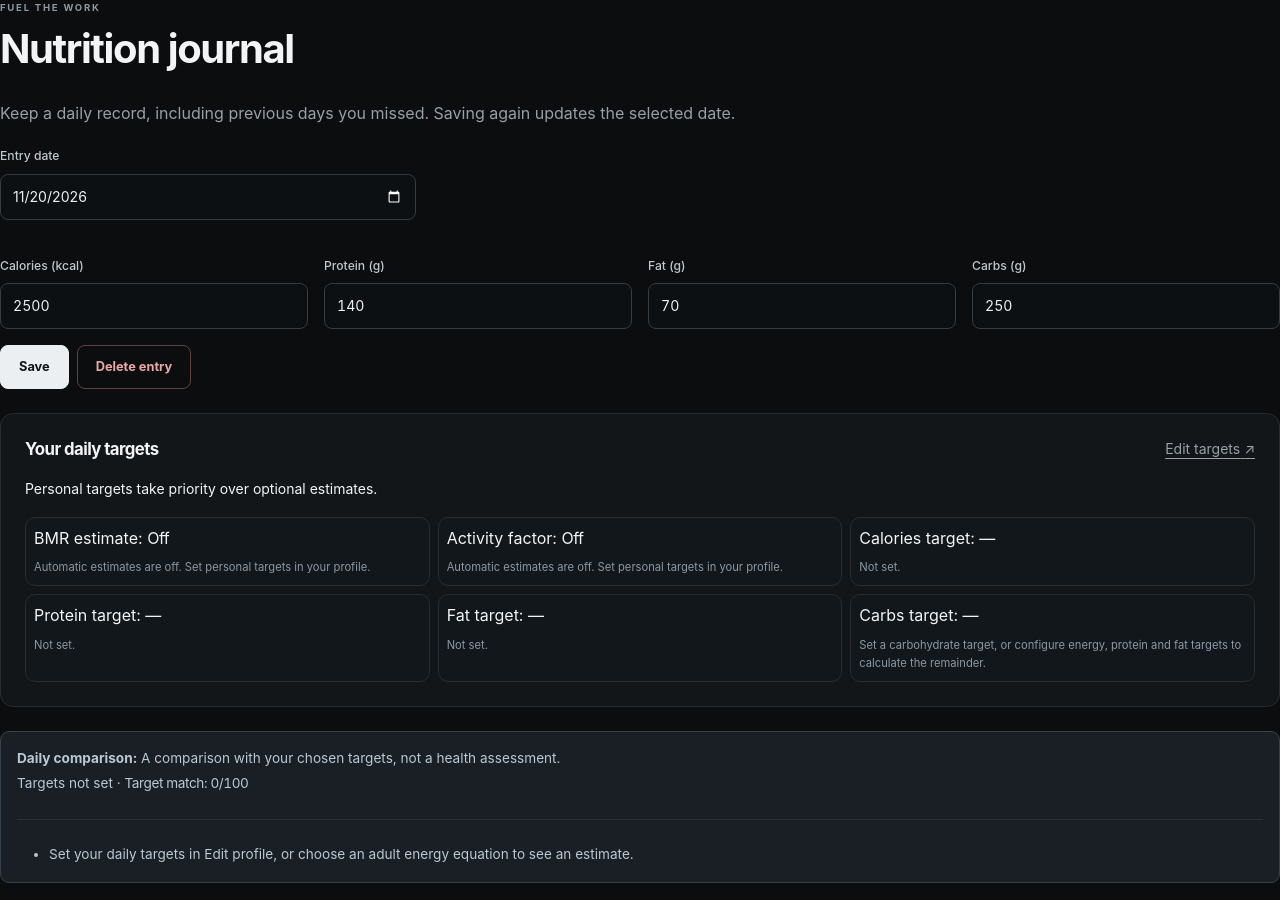
Test: nutrition journal › deletes an entry after confirmation and shows when estimates are off
Expected: the text "Targets not set" is shown, x1=17 y1=776 x2=113 y2=792
Expected: the list item "Set your daily targets in Edit profile, or choose an adult energy equation to see an estimate." is shown, x1=49 y1=846 x2=634 y2=862
Click the button "Delete entry" at (134, 367), box x1=77 y1=345 x2=191 y2=389
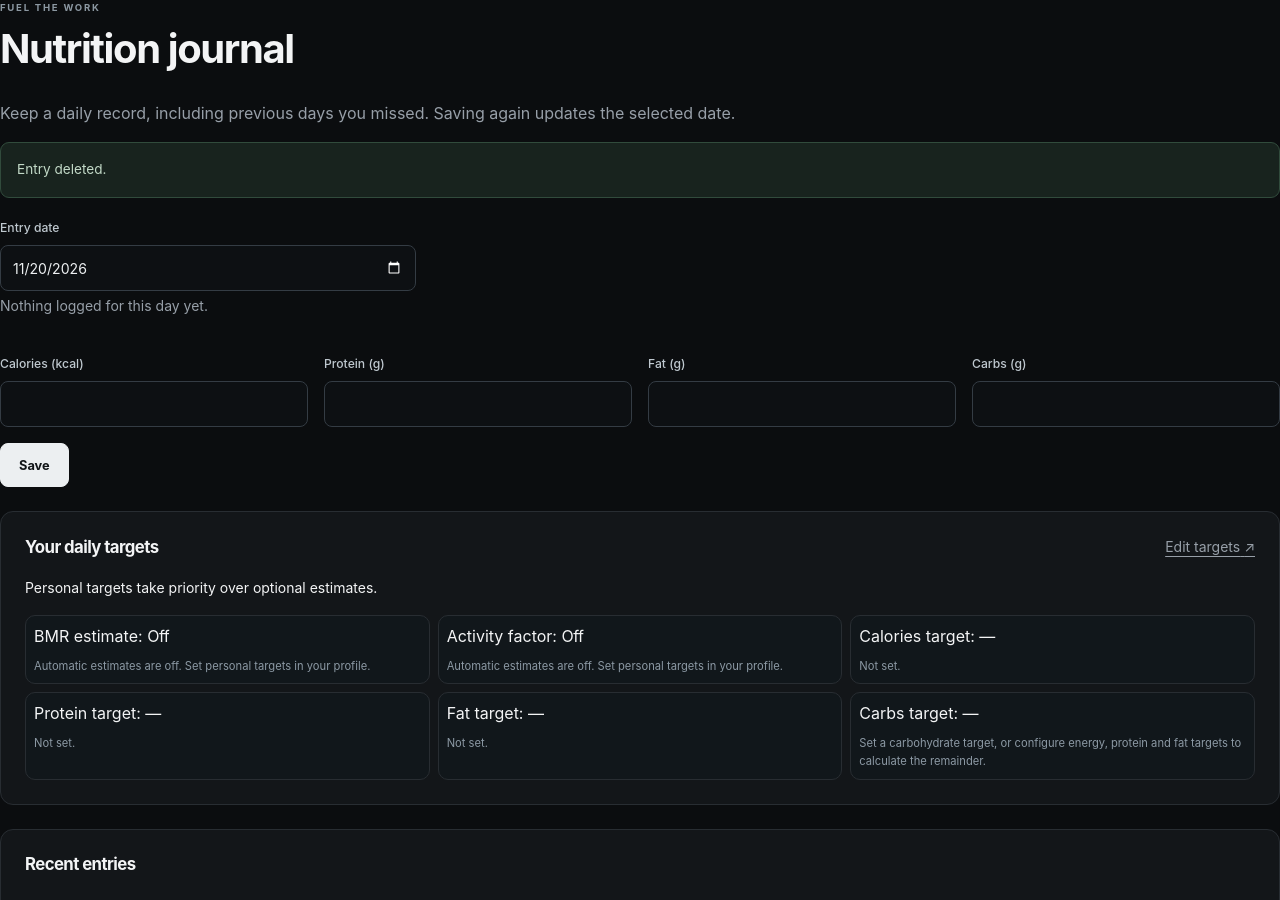
Expected: the text "Entry deleted." is shown, x1=0 y1=142 x2=1279 y2=198
Expected: the text "Nothing logged for this day yet." is shown, x1=0 y1=297 x2=208 y2=314
Expected: the number field labelled "Calories (kcal)" is not empty, x1=0 y1=381 x2=308 y2=427
